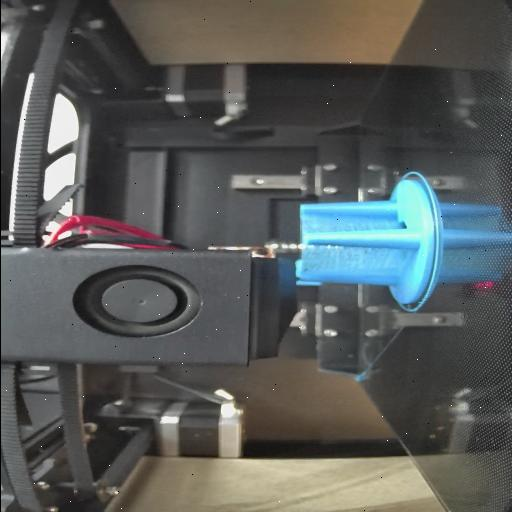stringing: (304, 248, 424, 275), (298, 210, 408, 230)
